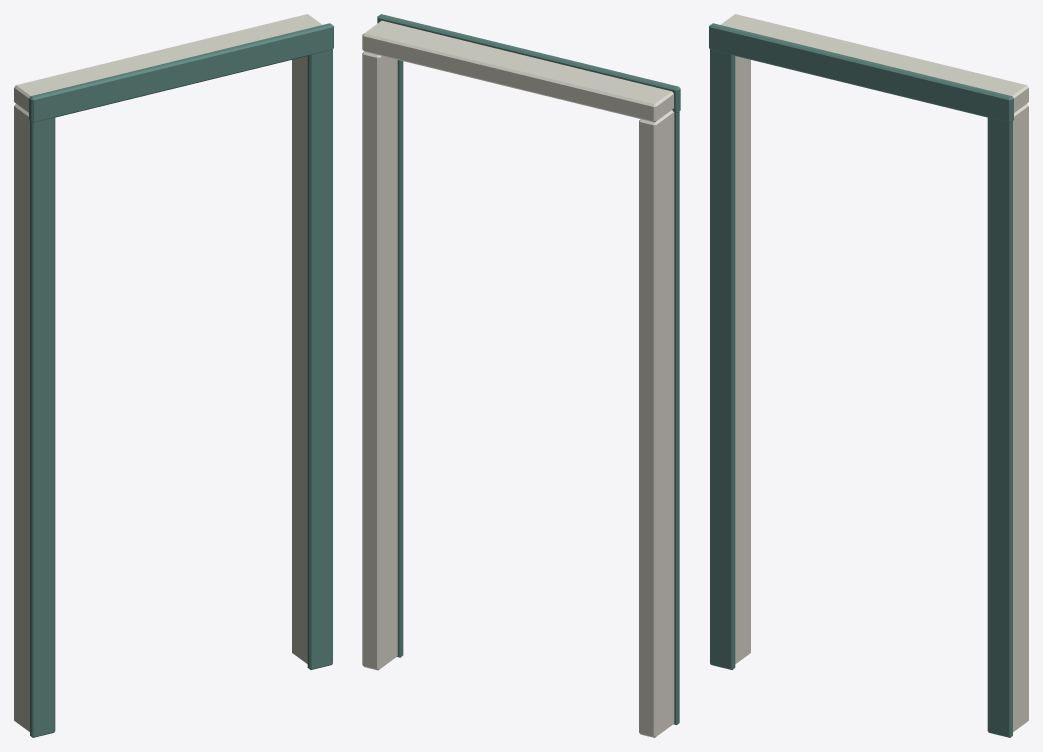
Rendered from Structure-DressingDoorFrame.fbx.
The picture shows the model from 3 angles, left to right: view 1: azimuth 30°, elevation 25°; view 2: azimuth 150°, elevation 25°; view 3: azimuth 330°, elevation 25°; orthographic projection.
Parts seen in each view (by area): view 1: Vertical Trim, Vertical Trim.001, Jamb, Jamb.001, Header Trim, Header; view 2: Jamb, Jamb.001, Header, Vertical Trim.001, Vertical Trim, Header Trim; view 3: Vertical Trim.001, Vertical Trim, Jamb.001, Jamb, Header Trim, Header.
Boxes of the visible parts, x1,y1,x2,y2 form: Vertical Trim: (30, 117, 55, 737); Vertical Trim.001: (307, 49, 332, 669); Jamb: (14, 104, 29, 731); Jamb.001: (292, 56, 307, 663); Header Trim: (29, 23, 333, 122); Header: (14, 14, 322, 112); Jamb: (639, 110, 674, 737); Jamb.001: (362, 51, 397, 670); Header: (362, 20, 673, 122); Vertical Trim.001: (397, 60, 403, 657); Vertical Trim: (673, 111, 679, 724); Header Trim: (377, 14, 680, 112); Vertical Trim.001: (987, 117, 1012, 737); Vertical Trim: (710, 49, 735, 669); Jamb.001: (1013, 104, 1028, 731); Jamb: (735, 56, 750, 663); Header Trim: (709, 23, 1013, 122); Header: (720, 14, 1028, 112).
Size of the model in its own units: 1.12 by 2.26 by 0.145.
